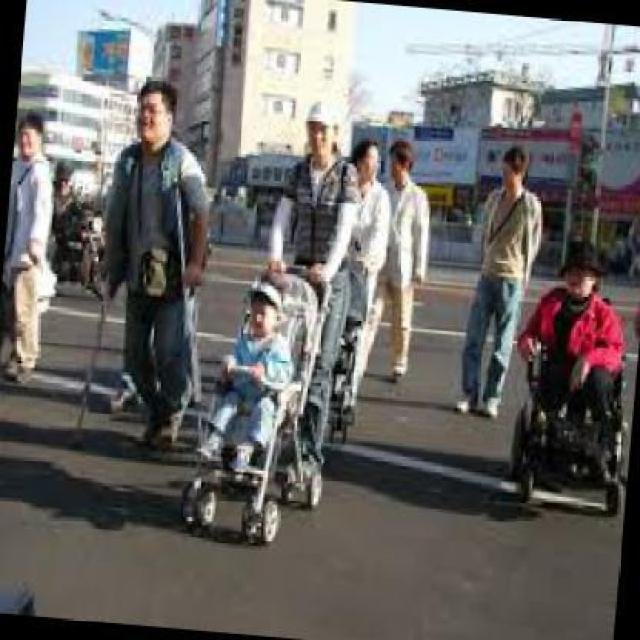Person: (66, 76, 237, 469), (248, 100, 355, 495), (512, 237, 638, 525), (452, 142, 550, 422), (322, 137, 396, 417), (0, 109, 68, 388), (364, 135, 438, 382)
